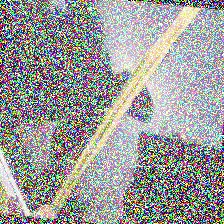Leaf_Blast: (64, 2, 178, 213)
